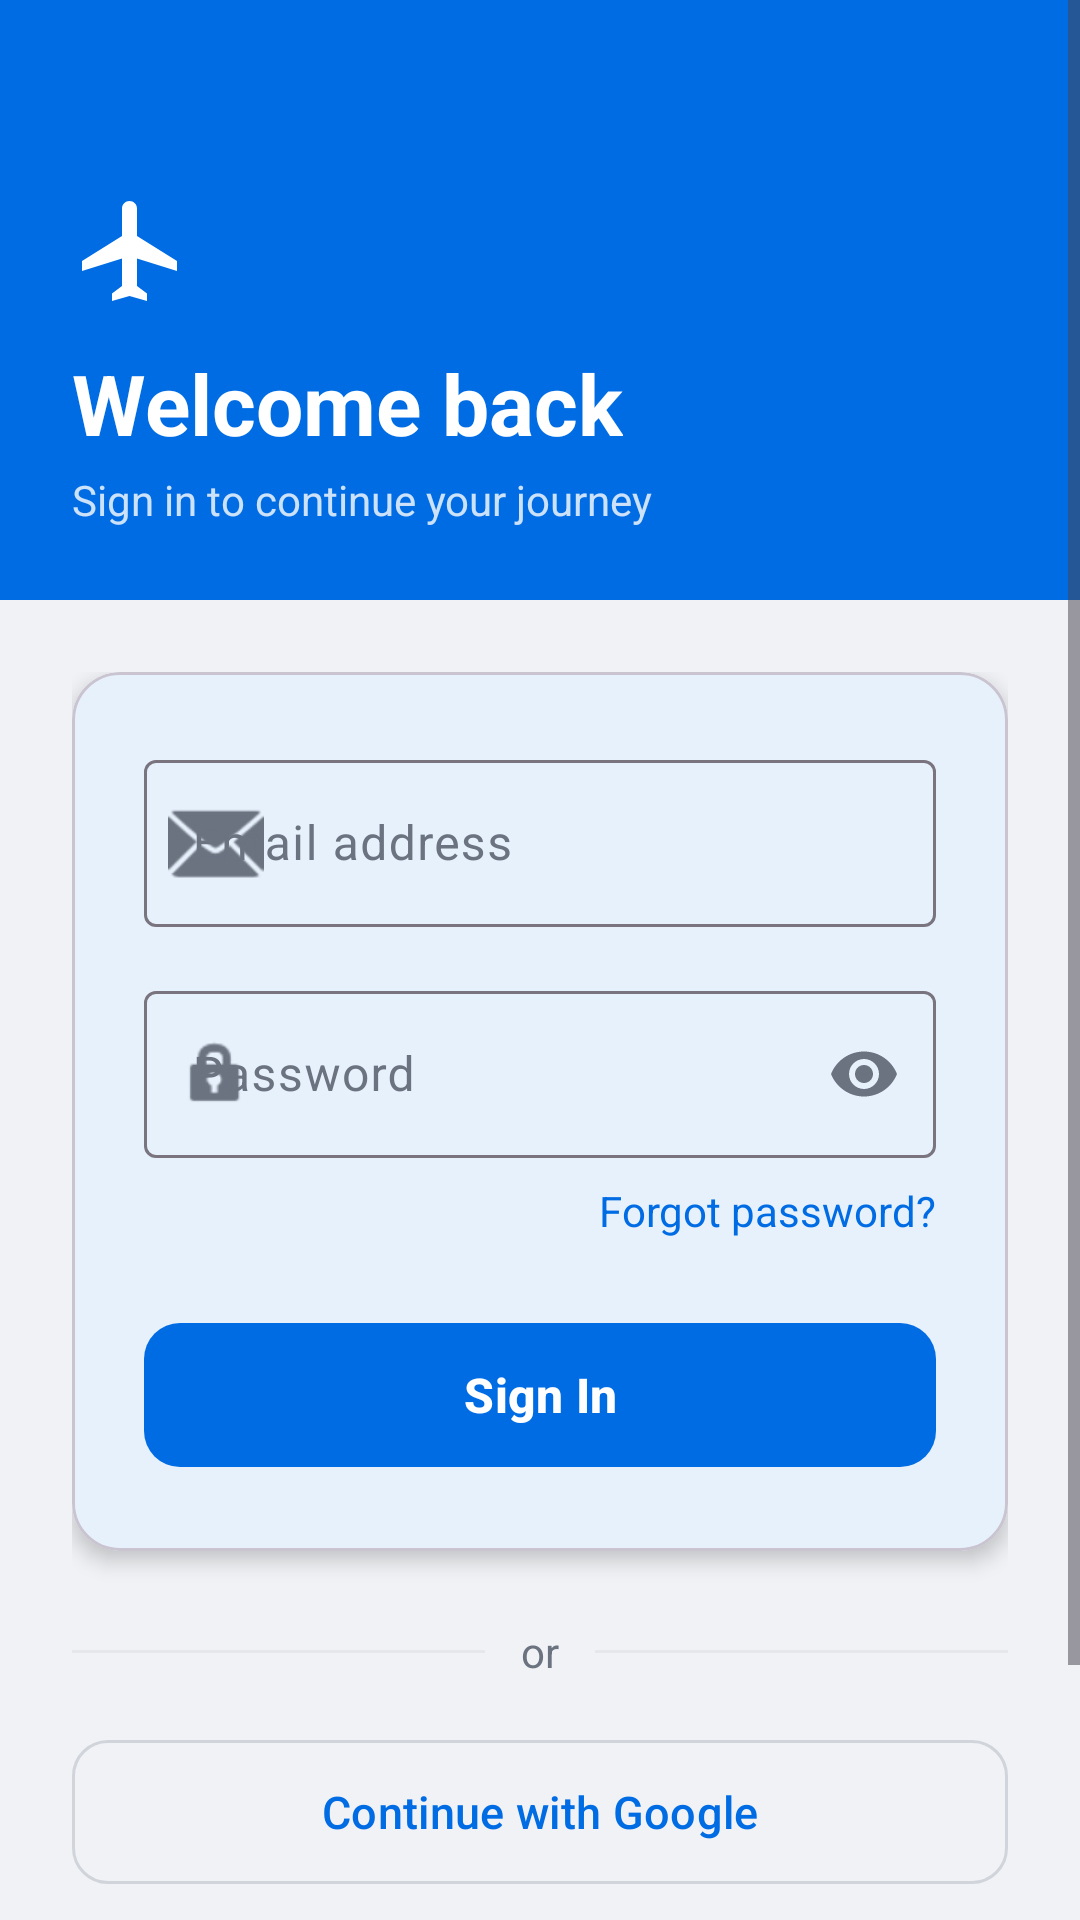

Screen size 1080x1920. Icon name, then its center in pixels as (x=x, y=y):
flight: (x=129, y=251)
